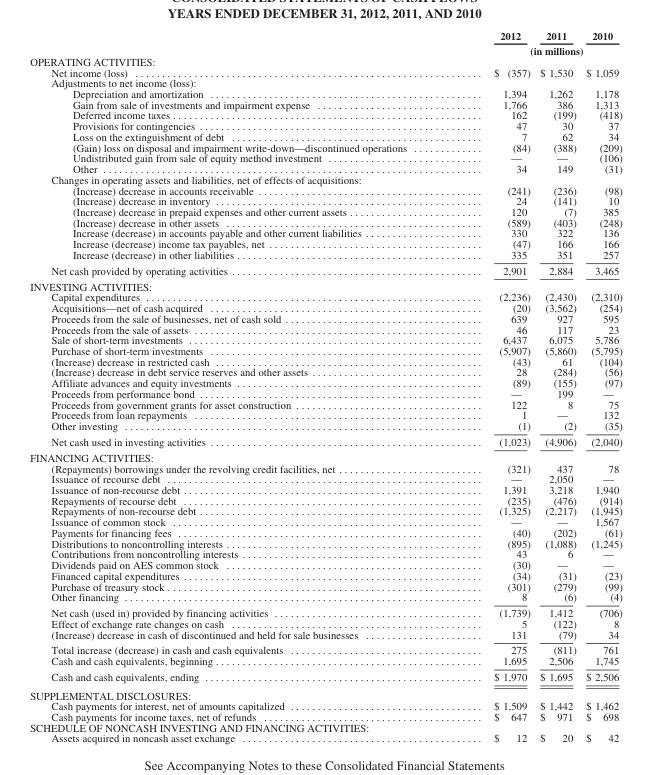table: (29, 29, 621, 743)
table column: (29, 29, 449, 743), (449, 29, 534, 743), (534, 29, 580, 743), (580, 29, 621, 743)
table column header: (29, 29, 621, 55)
table projected row header: (29, 685, 621, 700), (29, 278, 621, 291), (29, 449, 621, 462), (29, 55, 621, 66), (29, 77, 621, 88), (29, 173, 621, 184), (29, 721, 621, 732)
table row: (29, 668, 621, 685), (29, 262, 621, 278), (29, 433, 621, 449), (29, 685, 621, 700), (29, 248, 621, 262), (29, 641, 621, 655), (29, 29, 621, 42), (29, 42, 621, 55), (29, 278, 621, 291), (29, 420, 621, 433), (29, 449, 621, 462), (29, 591, 621, 604), (29, 604, 621, 617), (29, 628, 621, 641), (29, 655, 621, 668), (29, 55, 621, 66), (29, 66, 621, 77), (29, 77, 621, 88), (29, 98, 621, 109), (29, 109, 621, 120), (29, 130, 621, 141), (29, 141, 621, 152), (29, 152, 621, 163), (29, 173, 621, 184), (29, 184, 621, 195), (29, 205, 621, 216), (29, 216, 621, 227), (29, 227, 621, 238), (29, 291, 621, 302), (29, 312, 621, 323), (29, 323, 621, 334), (29, 344, 621, 355), (29, 355, 621, 366), (29, 366, 621, 377), (29, 387, 621, 398), (29, 398, 621, 409), (29, 409, 621, 420), (29, 462, 621, 473), (29, 473, 621, 484), (29, 494, 621, 505), (29, 505, 621, 516), (29, 526, 621, 537), (29, 537, 621, 548), (29, 548, 621, 559), (29, 569, 621, 580), (29, 580, 621, 591), (29, 617, 621, 628), (29, 700, 621, 711), (29, 721, 621, 732), (29, 732, 621, 743), (29, 88, 621, 98), (29, 120, 621, 130), (29, 163, 621, 173), (29, 195, 621, 205), (29, 238, 621, 248), (29, 302, 621, 312), (29, 334, 621, 344), (29, 377, 621, 387), (29, 484, 621, 494), (29, 516, 621, 526), (29, 559, 621, 569), (29, 711, 621, 721)
table spanning cell: (449, 42, 621, 55)
